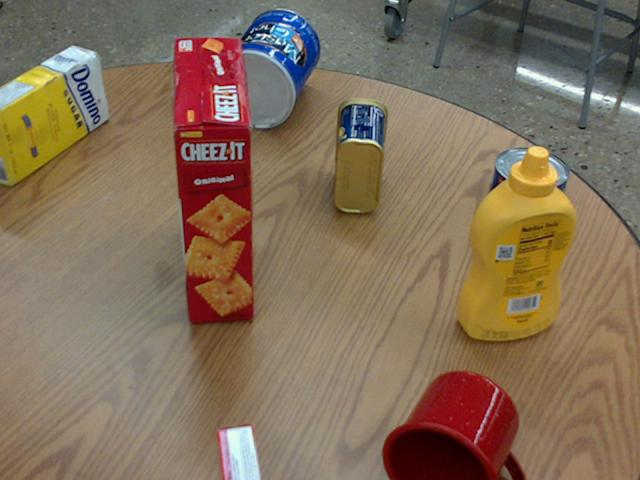cracker_box: (175, 39, 257, 322)
gelatin_box: (213, 425, 257, 479)
master_chef_can: (212, 9, 319, 128)
mug: (381, 371, 523, 479)
mustard_bottle: (456, 146, 575, 339)
potted_meat_can: (334, 98, 386, 212)
sugar_box: (0, 45, 107, 184)
tuna_fish_can: (490, 147, 567, 211)
